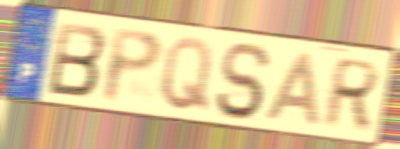A: (262, 50, 321, 128)
B: (46, 19, 108, 99)
P: (100, 25, 165, 106)
Q: (158, 34, 215, 115)
R: (318, 55, 382, 131)
S: (212, 41, 273, 123)
